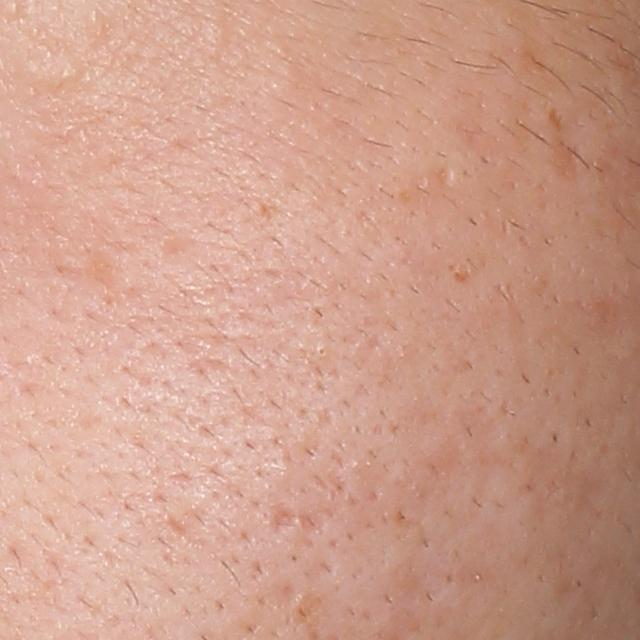atrophic_scar: (75, 240, 128, 306), (157, 227, 201, 275), (436, 160, 455, 184)
comedo: (57, 60, 85, 84)
